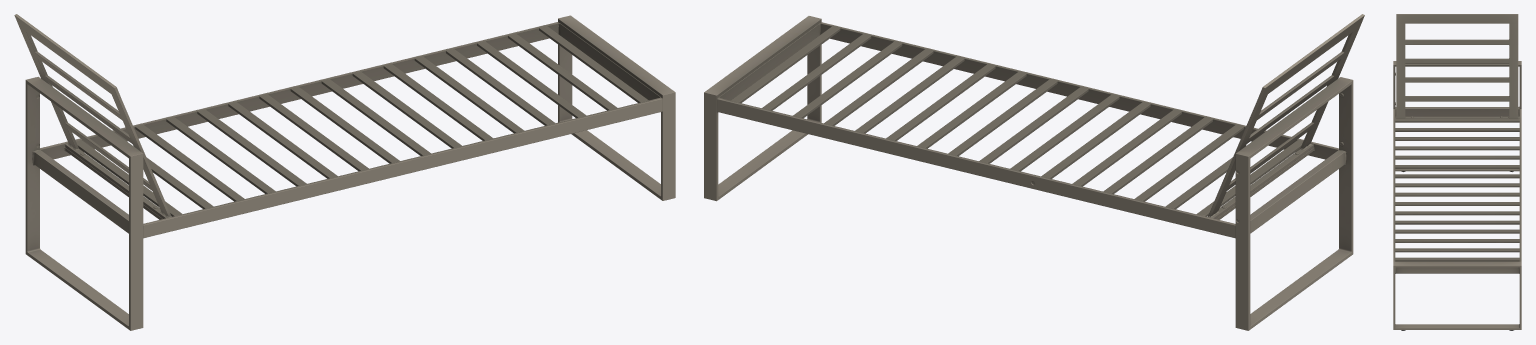
Rendered from MeridaDaybed02_Frame.glb.
The picture shows the model from 3 angles, left to right: view 1: azimuth 30°, elevation 25°; view 2: azimuth 150°, elevation 25°; view 3: azimuth 270°, elevation 25°; orthographic projection. The views are drawn at different scales.
Parts seen in each view (by area): view 1: merida-daybed-body-metal.001; view 2: merida-daybed-body-metal.001; view 3: merida-daybed-body-metal.001.
Part boxes in pixels (left/top/right/bottom): merida-daybed-body-metal.001: left=14, top=14, right=675, bottom=330; merida-daybed-body-metal.001: left=704, top=14, right=1364, bottom=330; merida-daybed-body-metal.001: left=1393, top=14, right=1521, bottom=329.
Size of the model in its own units: 1.84 by 0.7774 by 0.5972.
Materials: 2 (2 with a texture image).
